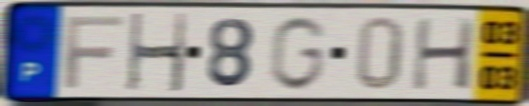0: (352, 14, 405, 94)
8: (206, 15, 256, 91)
F: (62, 14, 126, 92)
G: (265, 13, 330, 93)
H: (125, 11, 190, 95), (410, 15, 479, 93)
